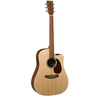guitar: (31, 1, 69, 96)
